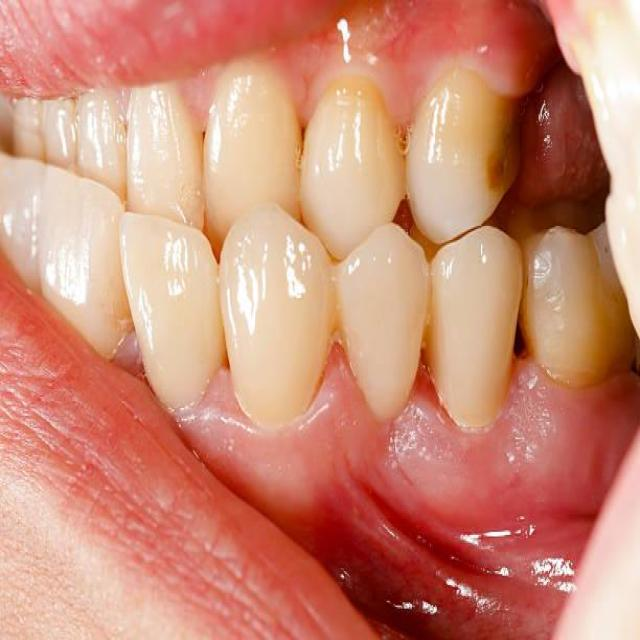caries: (480, 114, 536, 206)
